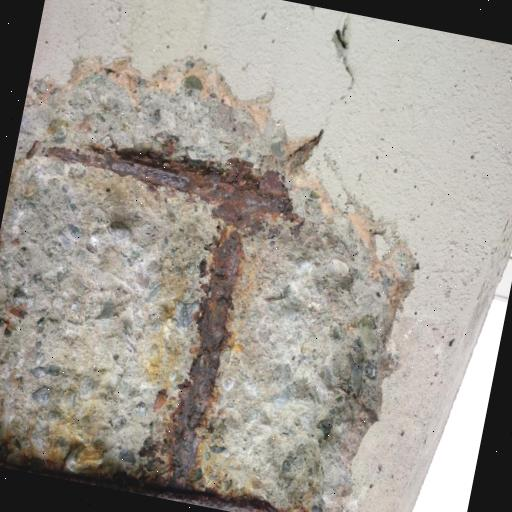spalling: (0, 78, 404, 512)
